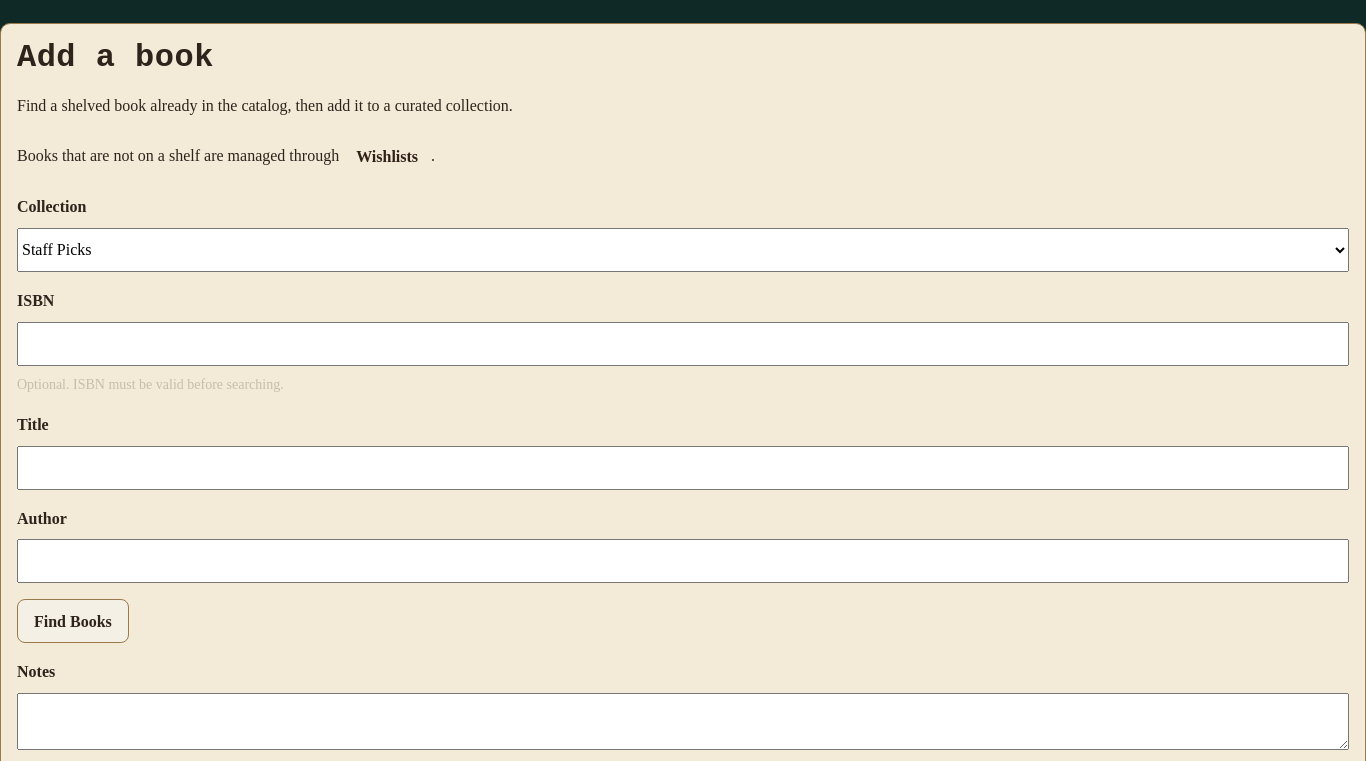
Test case: AddCollectionBookControl › requires a book selection before add
Type "Dispossessed" into the field labelled "Title".
click(683, 468); type("Dispossessed")  # box [17, 446, 1349, 490]
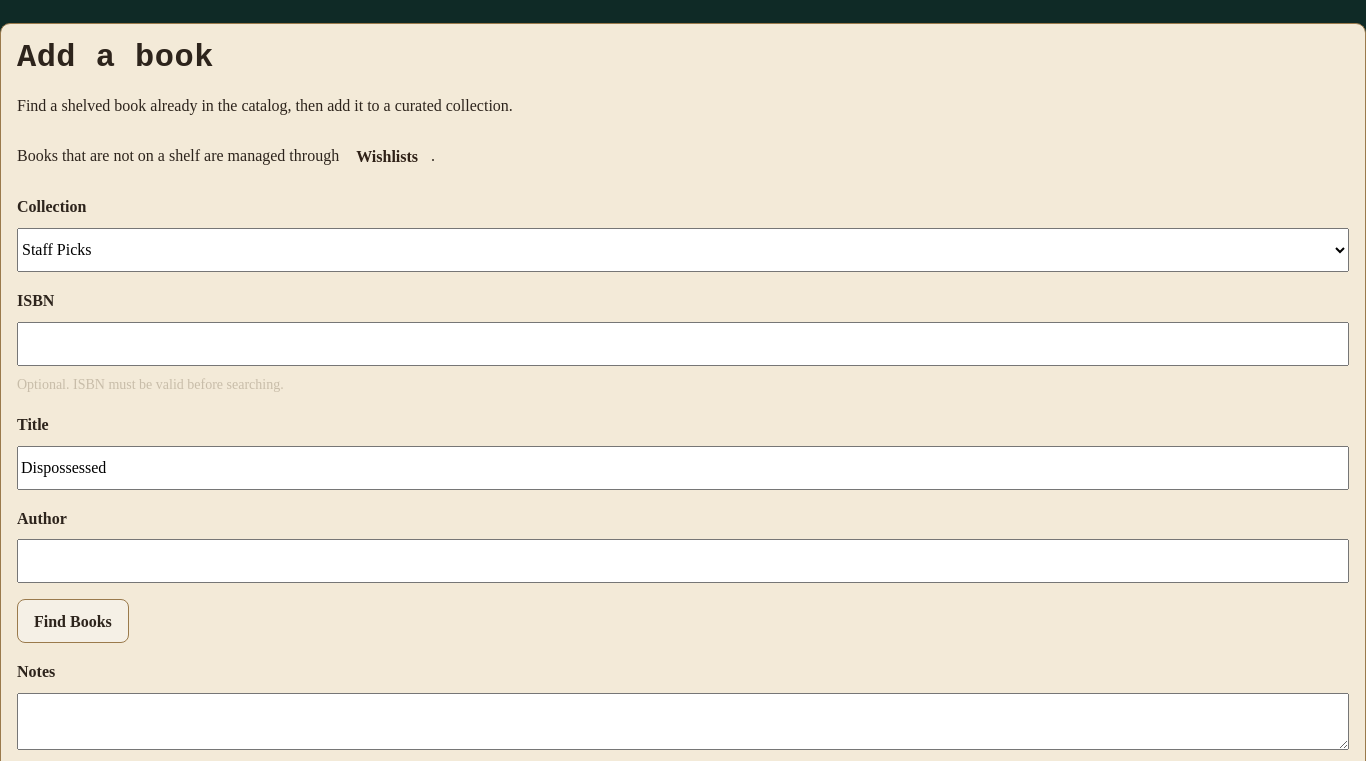
Click the button "Find Books".
click(73, 621)  # box [17, 599, 129, 643]
(page scrolled)
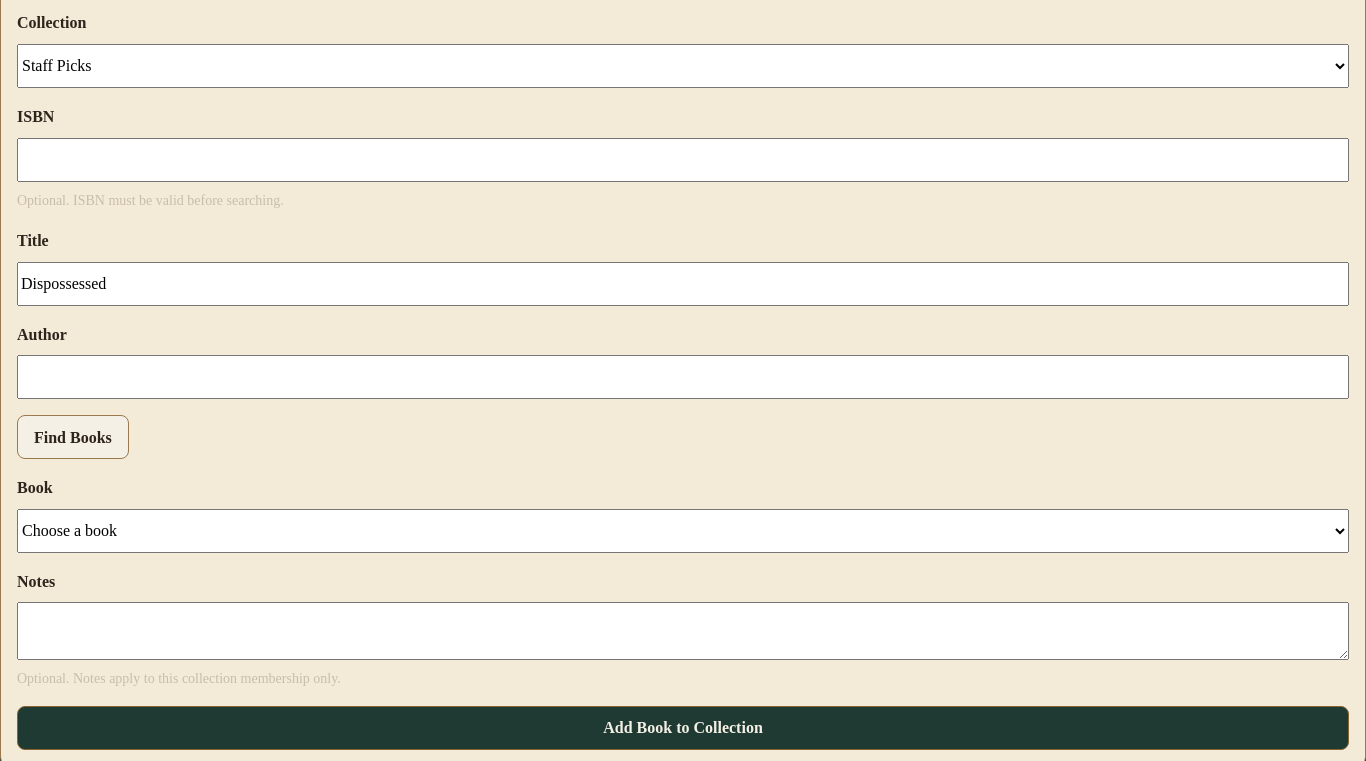
Result: the dropdown labelled "Book" is shown at [17, 509, 1349, 553]
Click the button "Add Book to Collection".
click(683, 728)  # box [17, 706, 1349, 750]
(page scrolled)
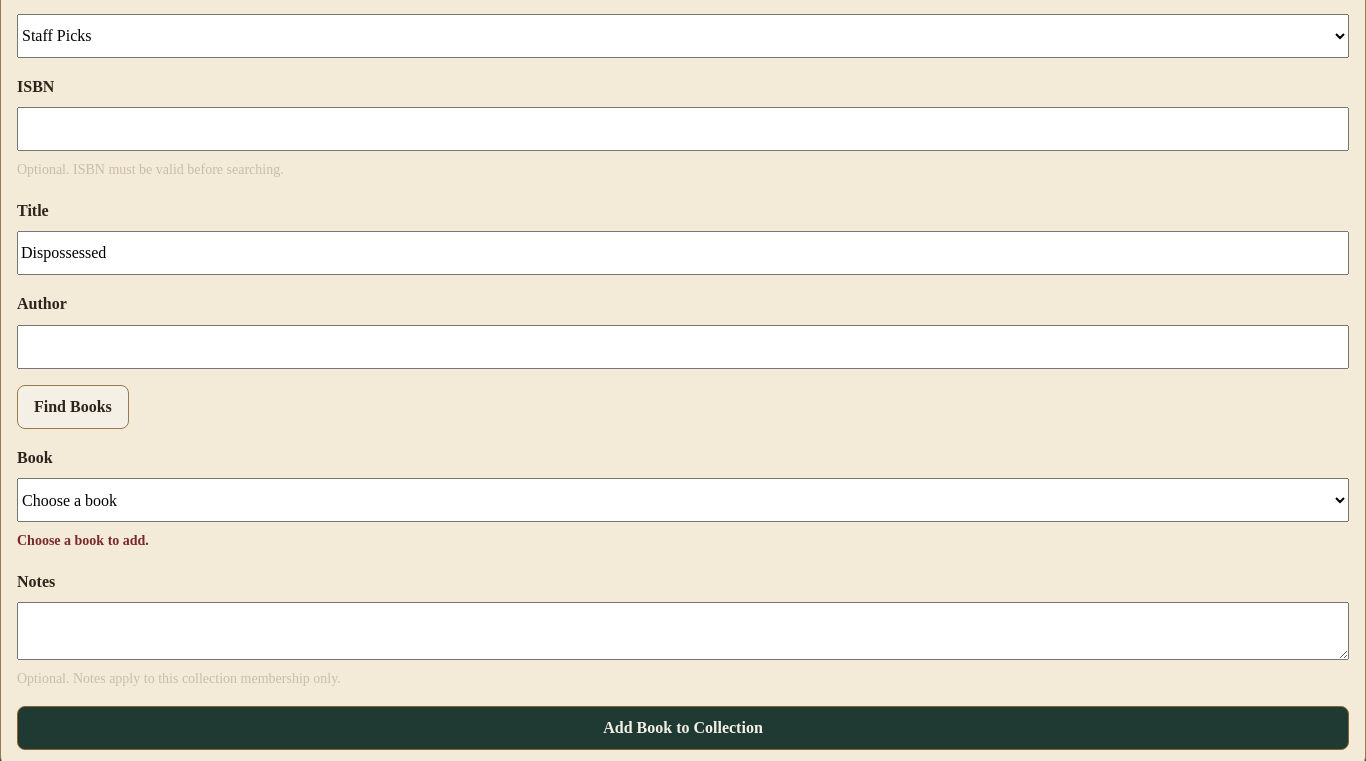
Result: the text "Choose a book to add." is shown at [17, 533, 149, 548]
